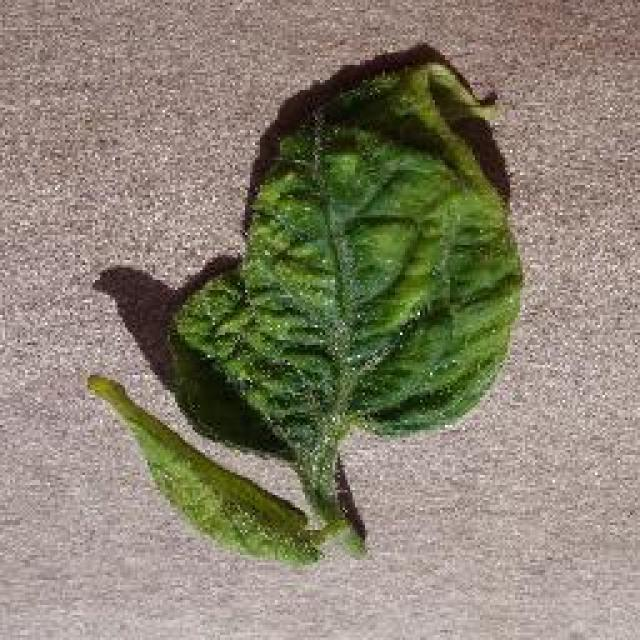Tomato yellow virus leaf: (164, 54, 524, 458), (94, 373, 318, 570)
